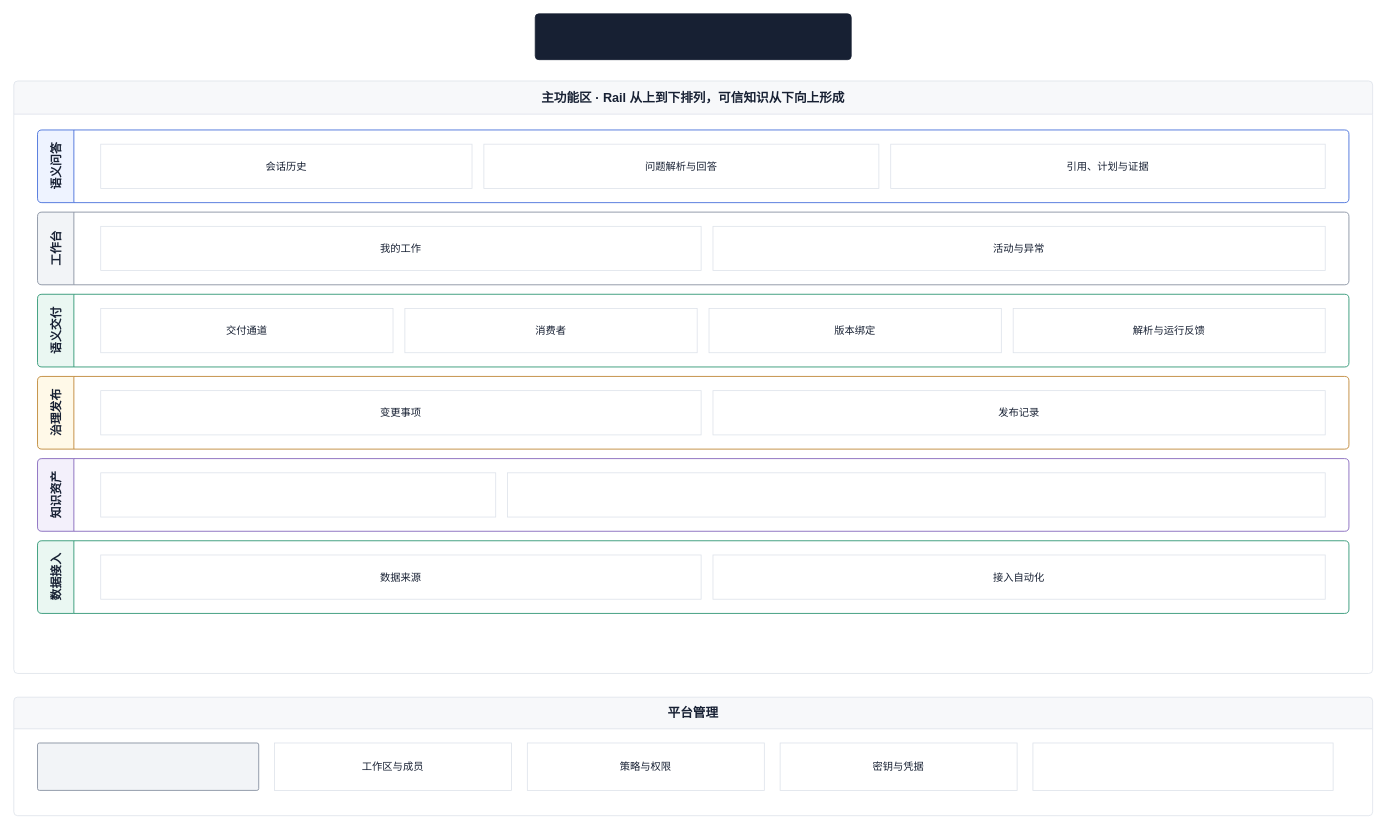
The diagram is 1386 pixels wide and 830 high, and some of its shapes have lost their labels. The shapes that lost their labels are listed below. From the top down, each one's centre as x and y in pixels, then its label:
At point 692,36: "Semlia 产品菜单树".
At point 298,494: "最近打开 · 资产快捷入口".
At point 916,494: "默认工作面 · 知识目录（语义资产主行 / 关系与实现子对象）".
At point 148,766: "系统设置".
At point 1182,766: "审计与运行设置".
